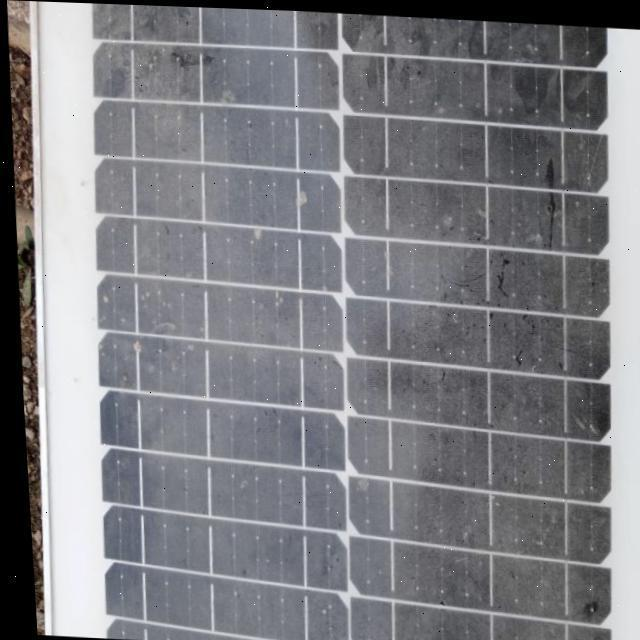Surface Contaminant: (61, 2, 640, 640)
